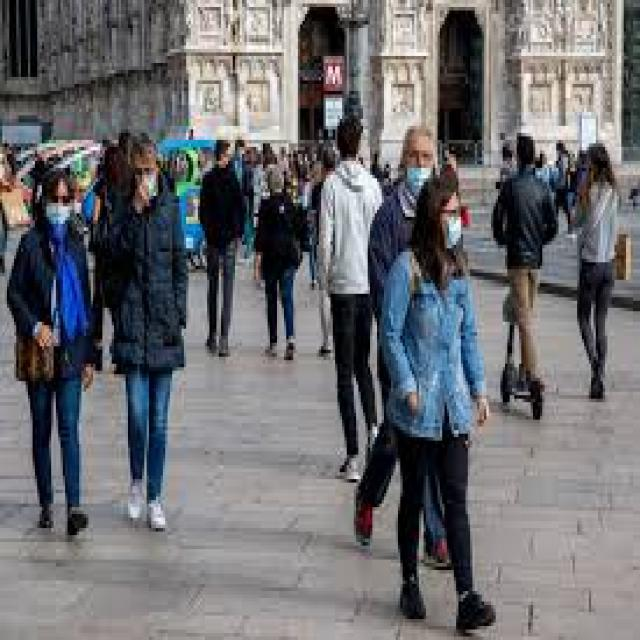Jacket: (384, 241, 486, 453), (89, 200, 194, 394), (2, 219, 94, 387), (484, 160, 560, 286), (252, 184, 305, 290), (192, 158, 248, 256)
